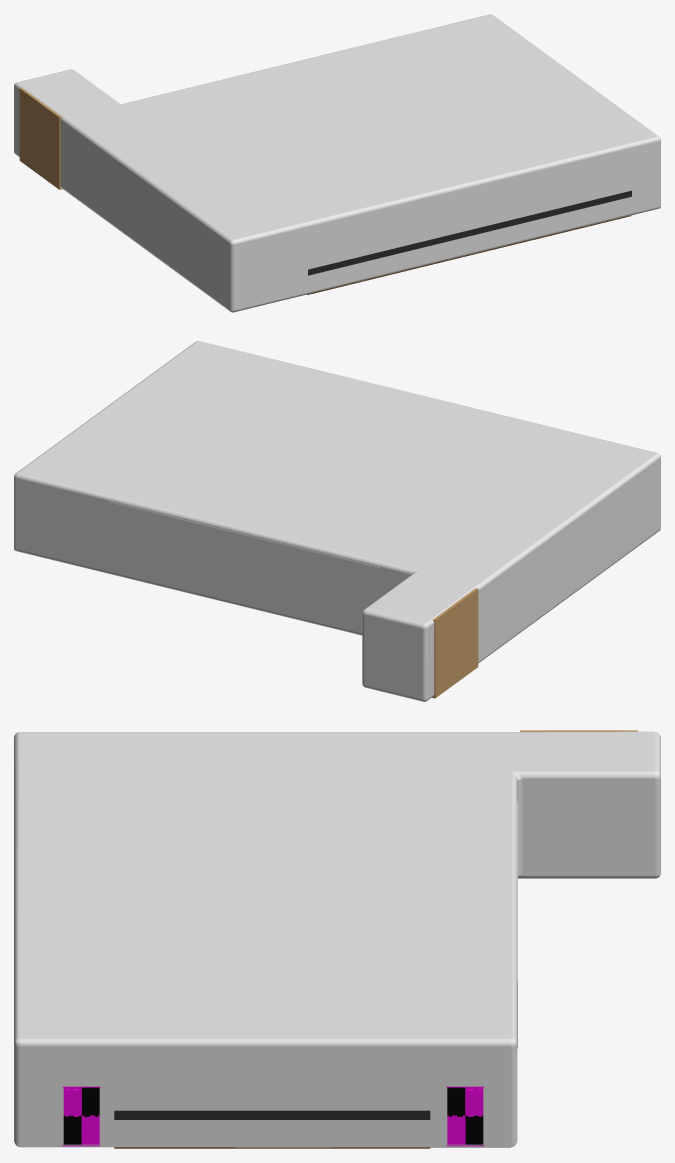
Rendered from MrKinneyTortureChamber.glb.
3 renders of one model, top to bottom at view 1: azimuth 30°, elevation 25°; view 2: azimuth 150°, elevation 25°; view 3: azimuth 270°, elevation 25°, orthographic. The views are drawn at different scales.
Parts seen in each view (by area): view 1: classroom; view 2: classroom; view 3: classroom.
Boxes of the visible parts, x1,y1,x2,y2 form: classroom: (14, 14, 660, 312); classroom: (14, 341, 660, 701); classroom: (14, 730, 660, 1148).
Size of the model in its own units: 31.31 by 5.14 by 27.4.
Materials: 12 (1 with a texture image).
